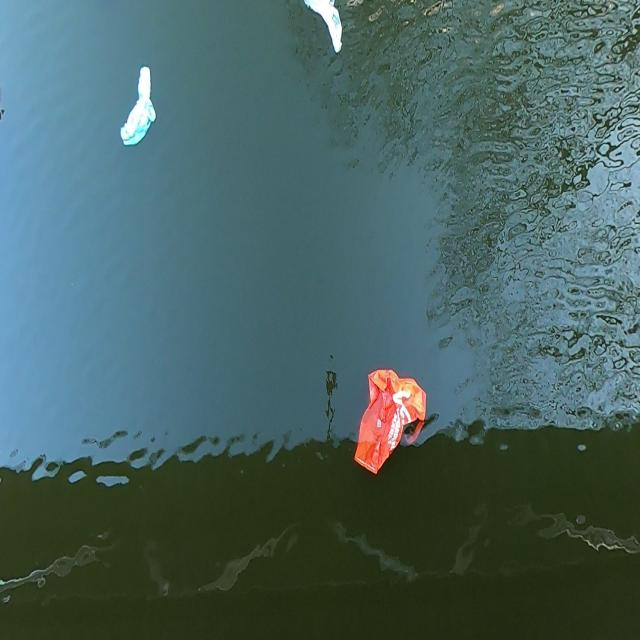Sac plastique: (353, 365, 429, 486), (117, 62, 157, 151)
